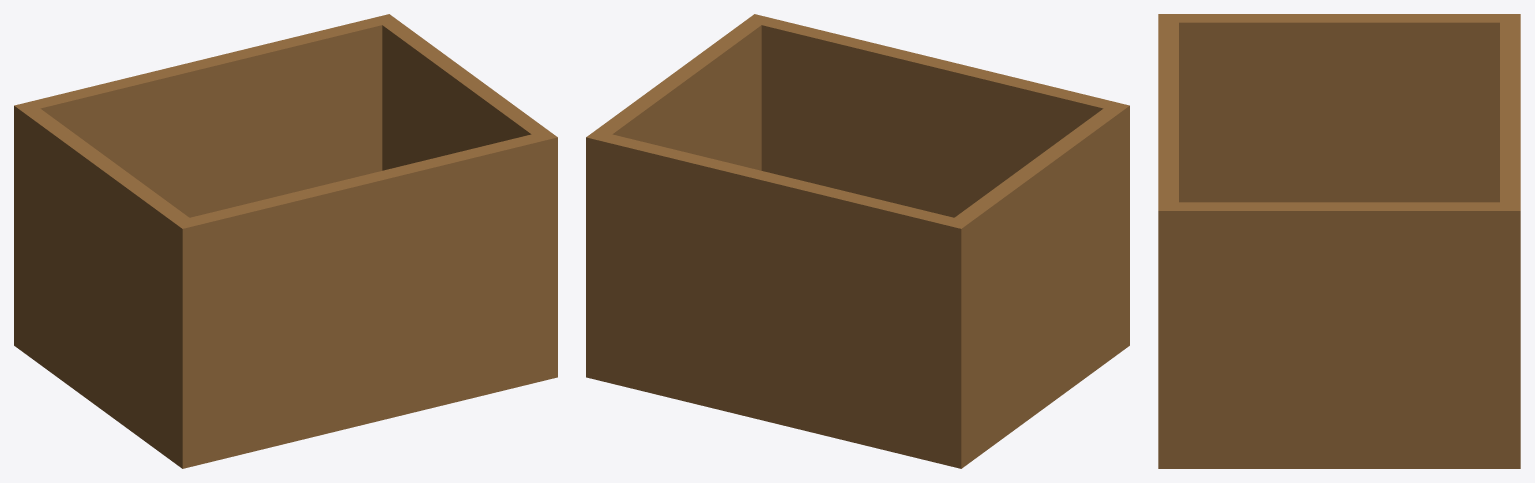
File: SM_SellCrate.fbx
The picture shows the model from 3 angles, left to right: view 1: azimuth 30°, elevation 25°; view 2: azimuth 150°, elevation 25°; view 3: azimuth 270°, elevation 25°; orthographic projection. The views are drawn at different scales.
Parts seen in each view (by area): view 1: Side_Back, Side_Front, Side_Right, Base, Side_Left; view 2: Side_Front, Side_Back, Side_Right, Base, Side_Left; view 3: Side_Left, Side_Right, Base, Side_Front, Side_Back.
Boxes of the visible parts, box(x1,y1,x2,y2) form: Side_Back: box(173, 130, 557, 446); Side_Front: box(14, 14, 398, 328); Side_Right: box(23, 108, 189, 439); Base: box(14, 303, 557, 468); Side_Left: box(382, 21, 547, 170); Side_Front: box(586, 130, 970, 446); Side_Back: box(745, 14, 1129, 330); Side_Right: box(954, 108, 1120, 439); Base: box(586, 302, 1129, 468); Side_Left: box(596, 21, 761, 170); Side_Left: box(1179, 202, 1499, 445); Side_Right: box(1179, 14, 1499, 202); Base: box(1158, 422, 1520, 468); Side_Front: box(1500, 14, 1520, 445); Side_Back: box(1158, 14, 1178, 445).
Bounding box in the file's own units: 0.9 × 0.55 × 0.7.
